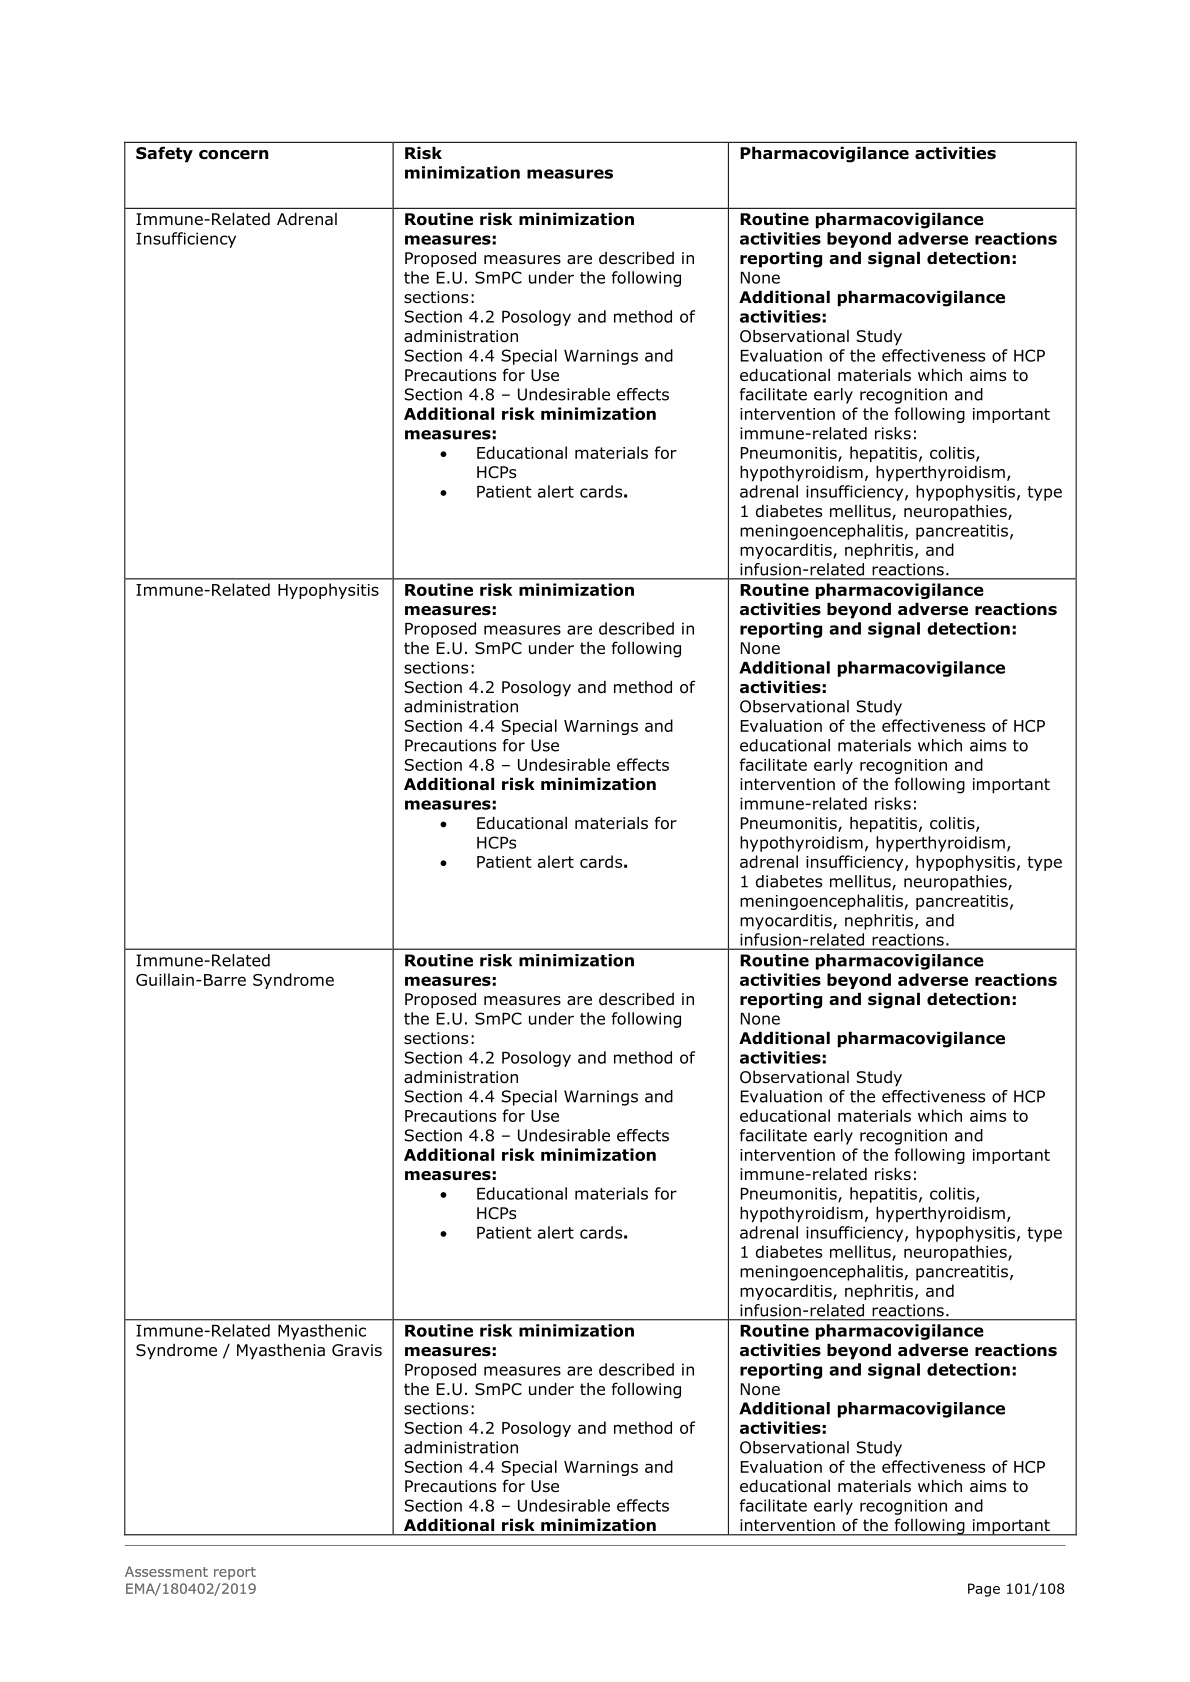full_lined: (124, 140, 1077, 1536)
